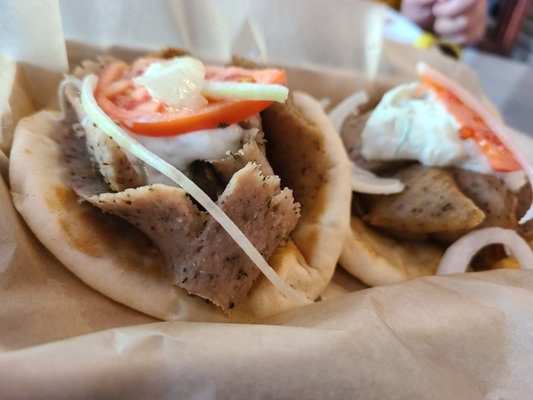soup: (11, 45, 355, 322)
